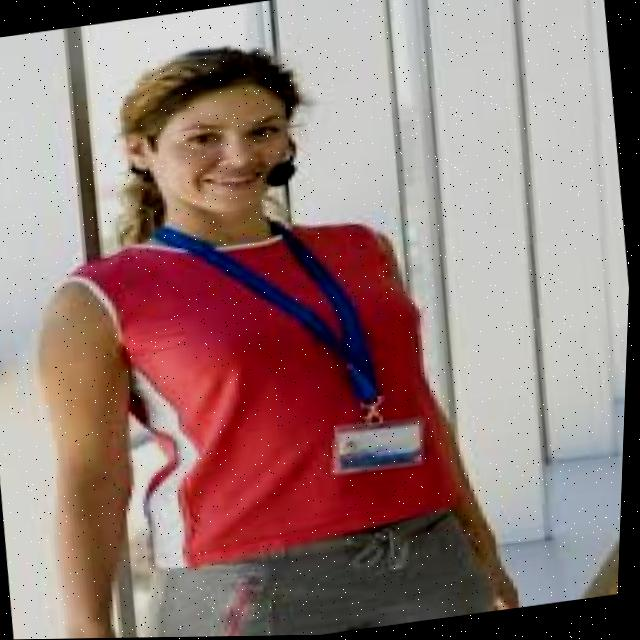id_card: (144, 176, 448, 518)
